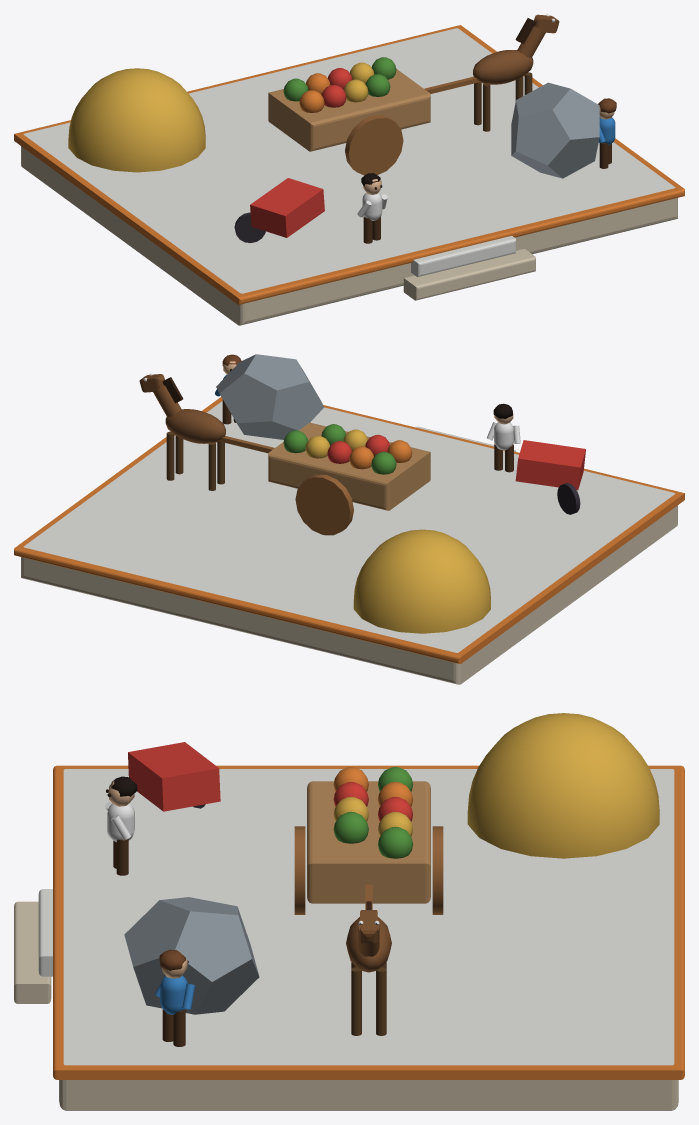
The model's file is yard.glb.
3 views of the same model, one above another, from view 1: azimuth 30°, elevation 25°; view 2: azimuth 150°, elevation 25°; view 3: azimuth 270°, elevation 25° (orthographic). The views are drawn at different scales.
Parts seen in each view (by area): view 1: part_000, part_001; view 2: part_000, part_001; view 3: part_000, part_001.
Boxes of the visible parts, left/top/right/bottom form: part_000: left=14, top=25, right=684, bottom=325; part_001: left=473, top=14, right=559, bottom=131; part_000: left=14, top=354, right=684, bottom=684; part_001: left=139, top=373, right=225, bottom=490; part_000: left=14, top=713, right=684, bottom=1110; part_001: left=346, top=901, right=391, bottom=1035.
Bounding box in the file's own units: 8.14 × 2.29 × 7.58.
